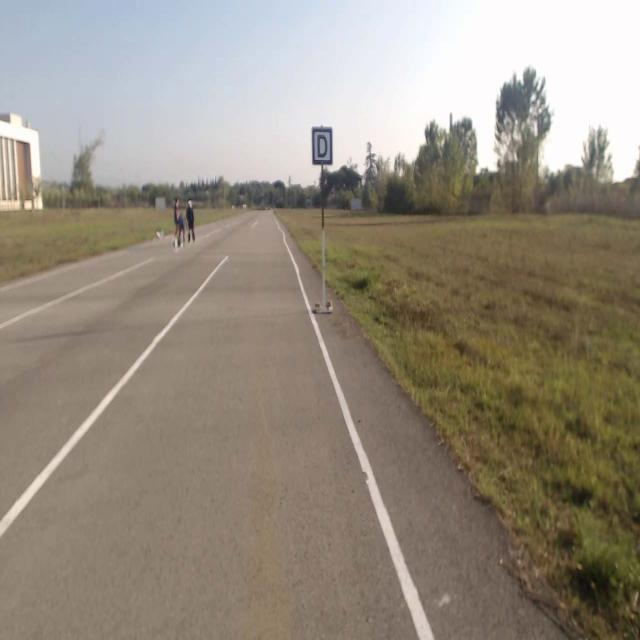durak: (312, 127, 332, 165)
